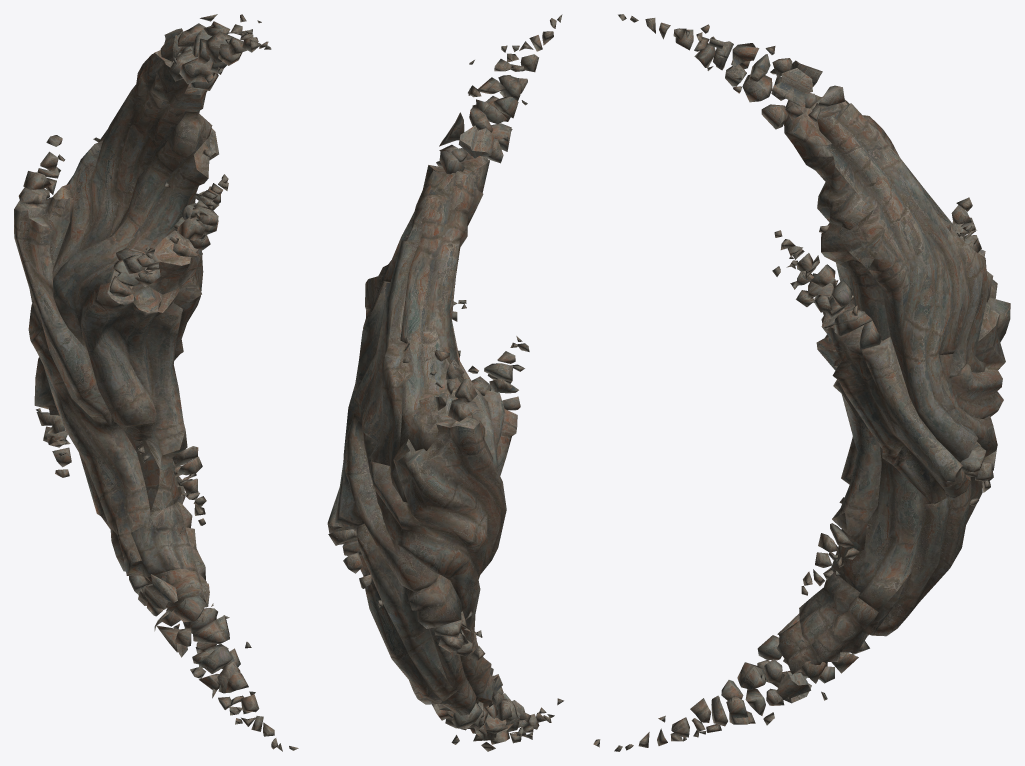
The model's file is bg_rad_kamen_rockpillar01clowpoly_sm.obj.
3 views of the same model, side by side, from view 1: azimuth 30°, elevation 25°; view 2: azimuth 150°, elevation 25°; view 3: azimuth 270°, elevation 25° (orthographic). The views are drawn at different scales.
Visible parts, largest first — view 1: bg_rad_kamen_rockpillar01clowpoly_sm_1, bg_rad_kamen_rockpillar01clowpoly_sm_0, bg_rad_kamen_rockpillar01clowpoly_sm_3; view 2: bg_rad_kamen_rockpillar01clowpoly_sm_0, bg_rad_kamen_rockpillar01clowpoly_sm_1, bg_rad_kamen_rockpillar01clowpoly_sm_3; view 3: bg_rad_kamen_rockpillar01clowpoly_sm_0, bg_rad_kamen_rockpillar01clowpoly_sm_1, bg_rad_kamen_rockpillar01clowpoly_sm_3.
Boxes of the visible parts, <box> form: bg_rad_kamen_rockpillar01clowpoly_sm_1: <box>14,209,209,611</box>; bg_rad_kamen_rockpillar01clowpoly_sm_0: <box>14,50,218,360</box>; bg_rad_kamen_rockpillar01clowpoly_sm_3: <box>18,14,298,751</box>; bg_rad_kamen_rockpillar01clowpoly_sm_0: <box>327,156,504,592</box>; bg_rad_kamen_rockpillar01clowpoly_sm_1: <box>327,409,517,715</box>; bg_rad_kamen_rockpillar01clowpoly_sm_3: <box>328,14,563,751</box>; bg_rad_kamen_rockpillar01clowpoly_sm_0: <box>784,92,998,503</box>; bg_rad_kamen_rockpillar01clowpoly_sm_1: <box>776,253,1010,674</box>; bg_rad_kamen_rockpillar01clowpoly_sm_3: <box>593,14,992,751</box>.
Bounding box in the file's own units: 2.21 × 9.27 × 4.79.
4 materials, 4 textured.
